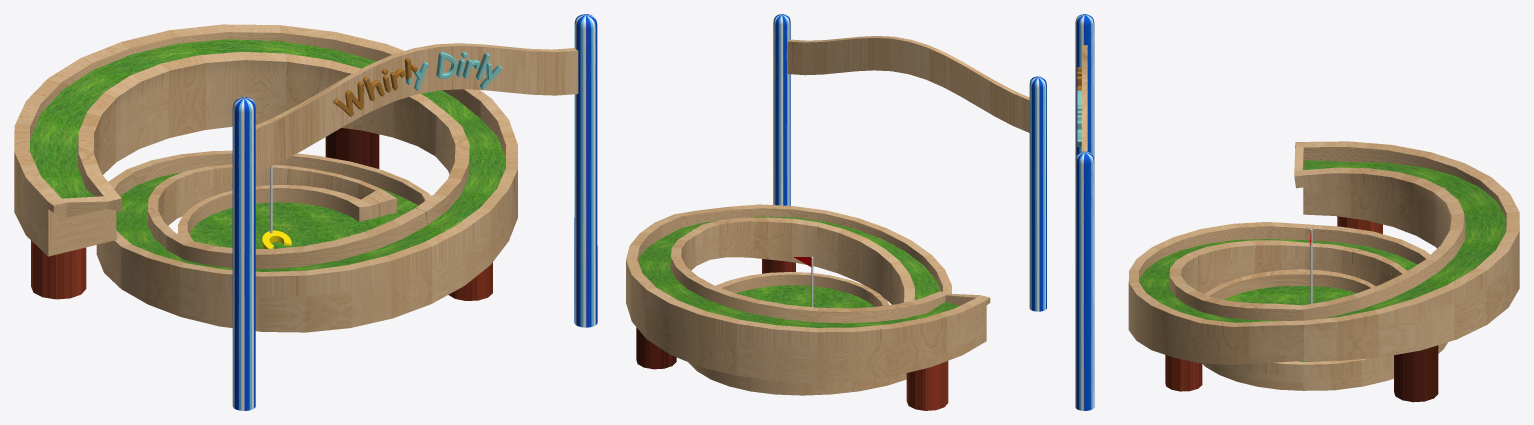
The model's file is Hole #3 Textured Version.fbx.
3 renders of one model, left to right at view 1: azimuth 30°, elevation 25°; view 2: azimuth 150°, elevation 25°; view 3: azimuth 270°, elevation 25°, orthographic. The views are drawn at different scales.
Parts seen in each view (by area): view 1: Hole__3, Sign_Sign:Sign_Pole:Sign; view 2: Hole__3, Sign_Sign:Sign_Pole:Sign; view 3: Hole__3, Sign_Sign:Sign_Pole:Sign.
Part boxes in pixels (bbox=[...]): Hole__3: bbox=[14, 24, 517, 332]; Sign_Sign:Sign_Pole:Sign: bbox=[232, 14, 597, 410]; Hole__3: bbox=[626, 204, 990, 410]; Sign_Sign:Sign_Pole:Sign: bbox=[773, 14, 1046, 311]; Hole__3: bbox=[1128, 141, 1519, 402]; Sign_Sign:Sign_Pole:Sign: bbox=[1075, 14, 1094, 410].
Bounding box in the file's own units: 22.07 × 14.96 × 23.17.
9 materials, 5 textured.
